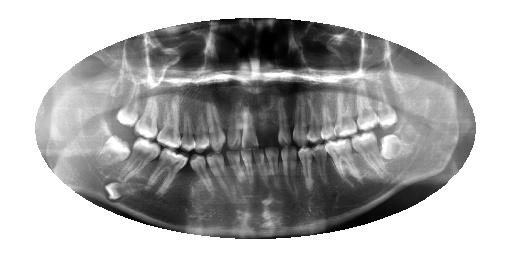i10decay: (226, 148, 248, 187)
i11decay: (204, 150, 236, 196)
i12decay: (188, 153, 214, 198)
i13healthy: (147, 147, 189, 196)
i14healthy: (120, 137, 159, 178)
i15healthy: (97, 132, 131, 168)
i16healthy: (99, 178, 153, 201)
i1healthy: (379, 132, 417, 167)
i2healthy: (352, 133, 393, 179)
i3healthy: (328, 140, 363, 182)
i4decay: (309, 142, 332, 184)
i5healthy: (299, 145, 316, 193)
i6decay: (280, 143, 299, 197)
i7decay: (265, 145, 283, 183)
i8decay: (253, 146, 272, 188)
i9decay: (240, 148, 259, 185)
u10decay: (224, 98, 243, 149)
u11decay: (207, 94, 226, 151)
u12healthy: (193, 110, 209, 151)
u13healthy: (181, 109, 195, 152)
u14healthy: (156, 90, 184, 150)
u15healthy: (133, 91, 163, 140)
u16healthy: (114, 83, 143, 129)
u1healthy: (377, 85, 396, 128)
u2healthy: (357, 85, 379, 132)
u3healthy: (335, 90, 357, 138)
u4healthy: (320, 90, 336, 140)
u5healthy: (308, 90, 323, 144)
u6healthy: (291, 91, 309, 144)
u7healthy: (275, 98, 293, 145)
u8loss: (257, 104, 279, 147)
u9chipped: (241, 107, 261, 148)
